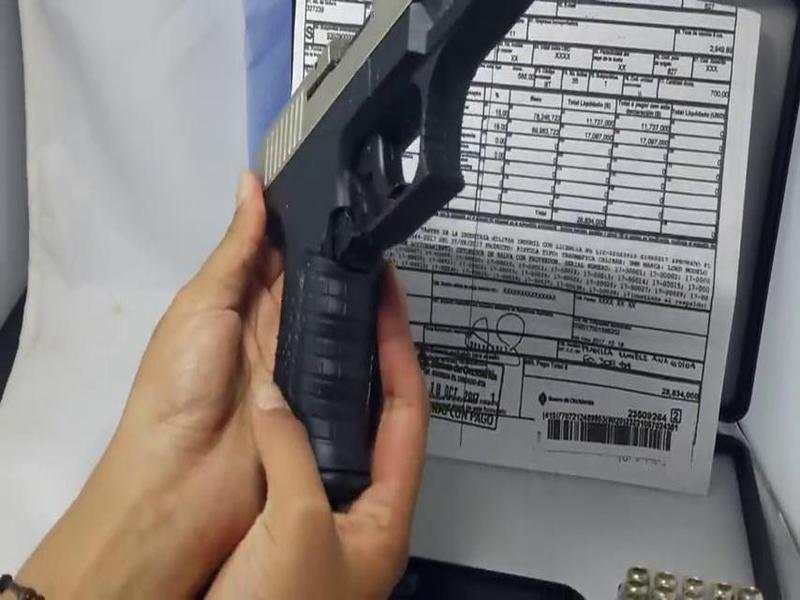Pistola: (231, 42, 511, 506)
